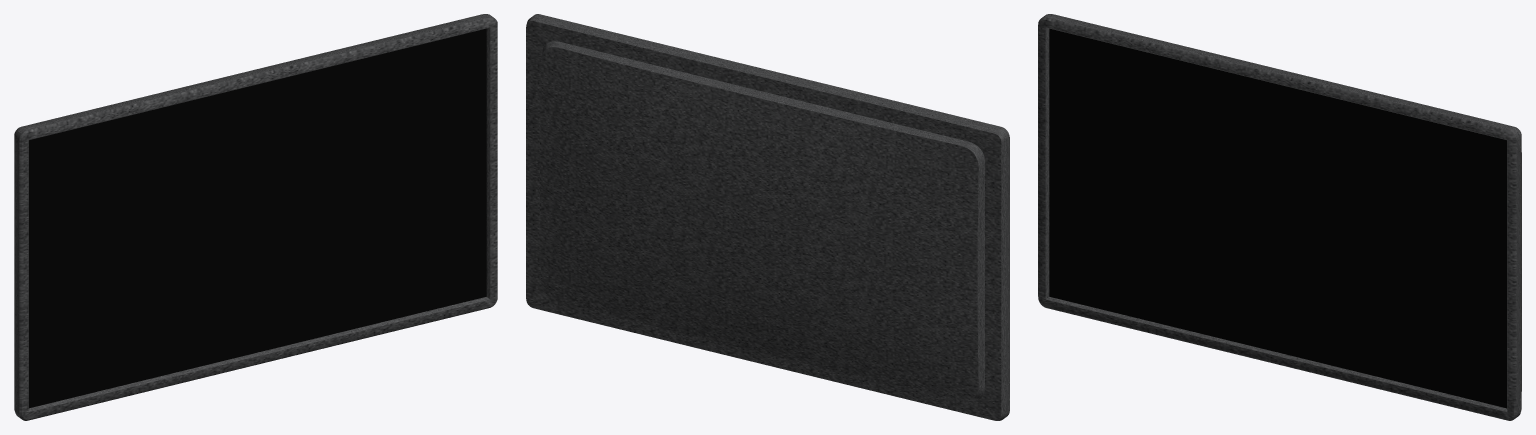
Rendered from Monitor Sin Base Horizontal.glb.
The picture shows the model from 3 angles, left to right: view 1: azimuth 30°, elevation 25°; view 2: azimuth 150°, elevation 25°; view 3: azimuth 330°, elevation 25°; orthographic projection.
Parts seen in each view (by area): view 1: 17af37de-36c3-412b-b780-3ee3dbff72eb, f5c67af0-2c3f-42c0-bf44-d5f611f01c56; view 2: f5c67af0-2c3f-42c0-bf44-d5f611f01c56; view 3: 17af37de-36c3-412b-b780-3ee3dbff72eb, f5c67af0-2c3f-42c0-bf44-d5f611f01c56.
Boxes of the visible parts, x1,y1,x2,y2 form: 17af37de-36c3-412b-b780-3ee3dbff72eb: (29,28,486,408); f5c67af0-2c3f-42c0-bf44-d5f611f01c56: (14,14,497,420); f5c67af0-2c3f-42c0-bf44-d5f611f01c56: (526,14,1009,420); 17af37de-36c3-412b-b780-3ee3dbff72eb: (1049,28,1506,408); f5c67af0-2c3f-42c0-bf44-d5f611f01c56: (1038,14,1521,420).
Bounding box in the file's own units: 0.7381 × 0.4284 × 0.0483.
Materials: 2 (1 with a texture image).
